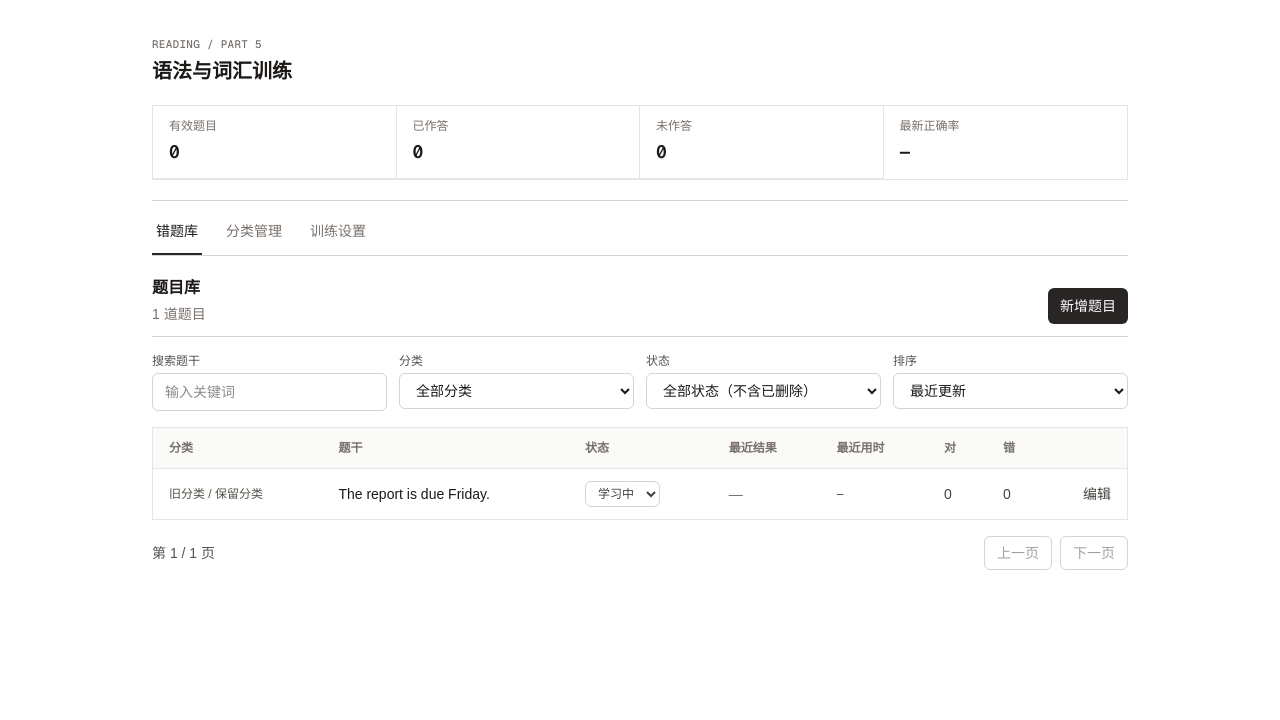
Scenario: inactive category question editing › does not expose internal database IDs in question labels
Click the button "编辑" at [1097, 494], box [1083,484,1111,504]
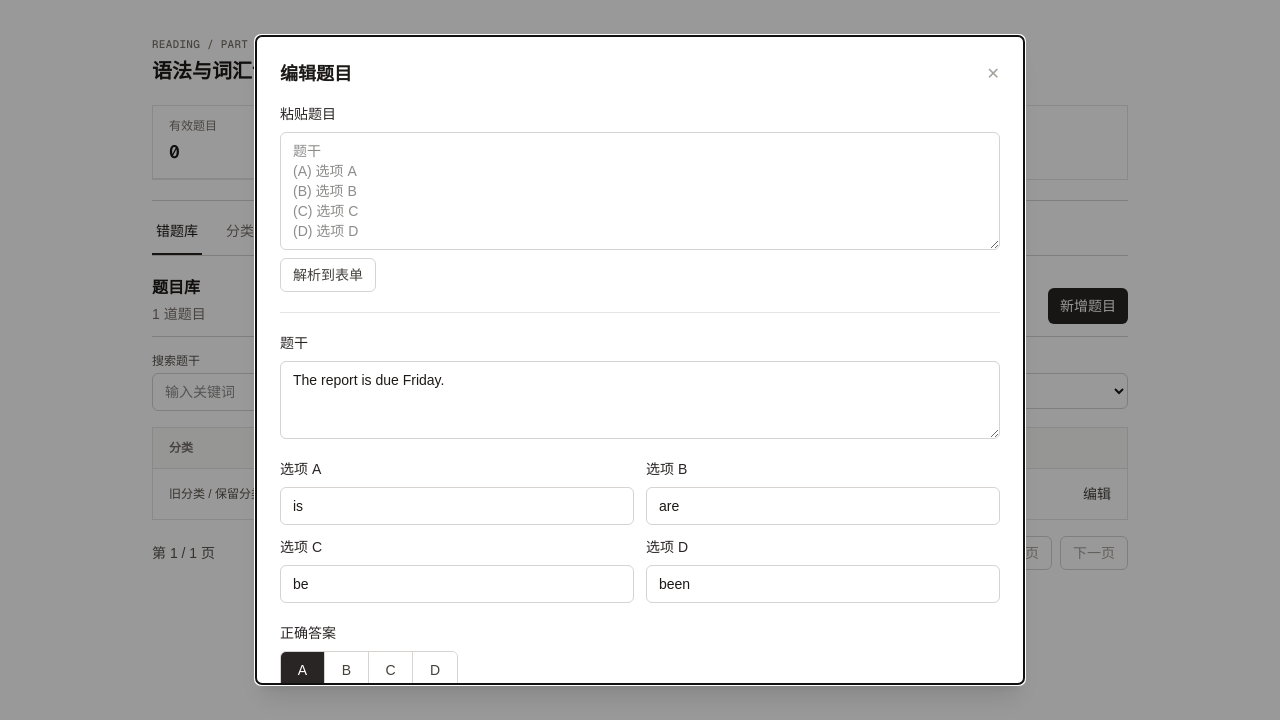
Result: the dialog shows "编辑题目" at [280,64,352,84]
